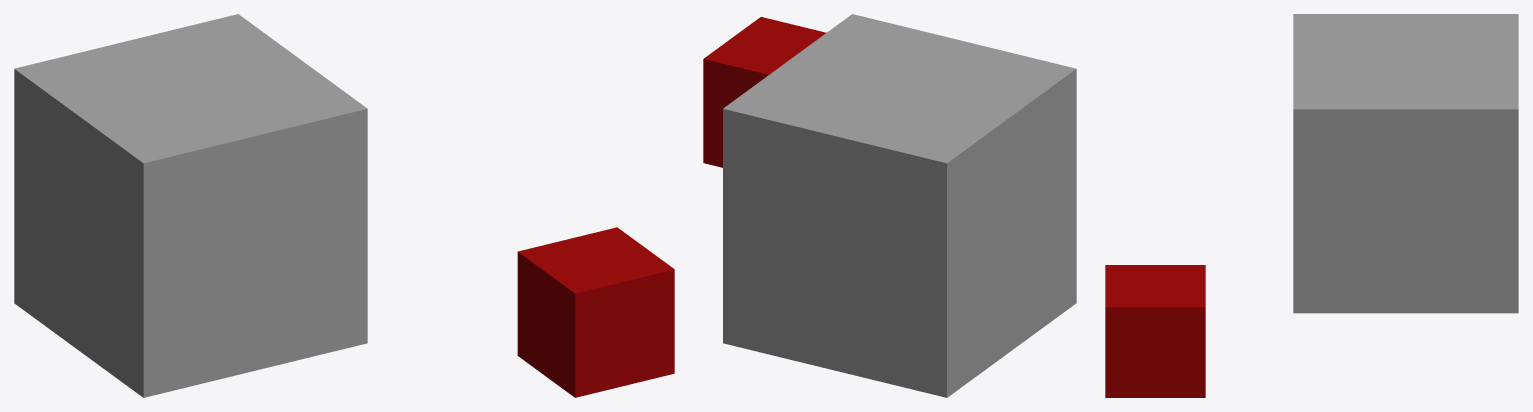
Rendered from reflection.obj.
3 renders of one model, left to right at view 1: azimuth 30°, elevation 25°; view 2: azimuth 150°, elevation 25°; view 3: azimuth 270°, elevation 25°, orthographic. The views are drawn at different scales.
Visible parts, largest first — view 1: CubeReflect, Cube.003; view 2: CubeReflect, Cube.003; view 3: CubeReflect, Cube.003.
Boxes of the visible parts, bbox=[...] form: CubeReflect: bbox=[14, 14, 367, 397]; Cube.003: bbox=[517, 227, 674, 397]; CubeReflect: bbox=[723, 14, 1076, 397]; Cube.003: bbox=[703, 17, 826, 167]; CubeReflect: bbox=[1293, 14, 1518, 313]; Cube.003: bbox=[1105, 265, 1205, 397].
Size of what is drawn, in the model's own units: 1.7 by 0.9 by 1.65.
